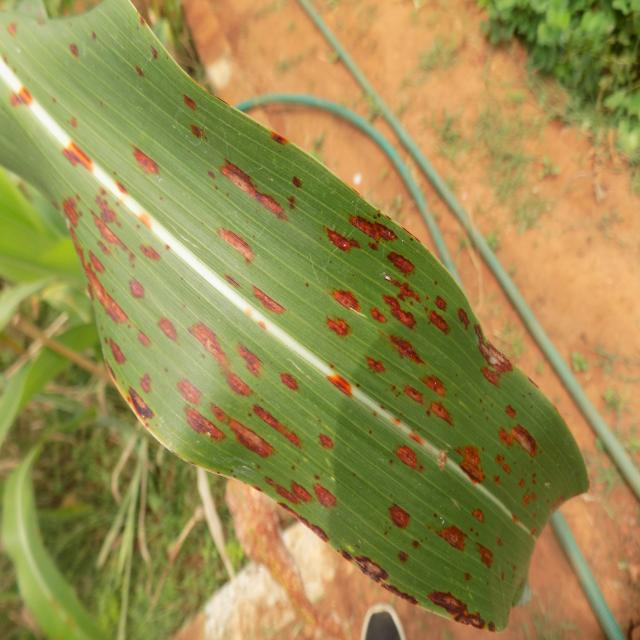millet_rust: (45, 21, 528, 552)
